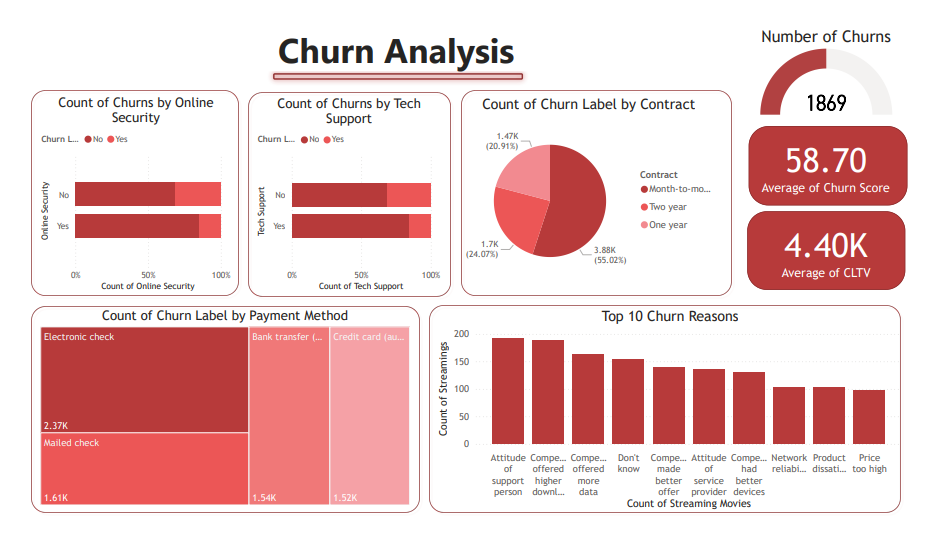

This screenshot's page, from the dashboard's own definition file:
{"tool":"powerbi","page":{"name":"Churn","canvas":[1280,720],"ordinal":3},"visuals":[{"type":"shape","box":[1035.5,274.9,223,111.5],"z":0},{"type":"shape","box":[1036.9,155.2,224.1,111.3],"z":1000},{"type":"shape","box":[359,73,367,25],"z":2000},{"type":"shape","box":[18.7,99.4,306.7,301],"z":2500},{"type":"textbox","box":[368.7,8.8,383,76.3],"z":3000},{"type":"shape","box":[18.7,401.8,561.6,303.8],"z":4000},{"type":"shape","box":[580.3,400.6,677.6,304.9],"z":5000},{"type":"shape","box":[625.6,98.9,394.4,301.1],"z":6000},{"type":"shape","box":[325.6,101.1,298.9,301.1],"z":7000},{"type":"gauge","title":"Number of Churns","fields":{"Y":["CountNonNull(Cleaned_Vis.Churn Label)"]},"box":[1031,14.6,231.4,128.9],"z":8000},{"type":"card","fields":{"Values":["Avg(Cleaned_Vis.Churn Score)"]},"box":[1050.1,155.2,191.9,111.3],"z":9000},{"type":"clusteredColumnChart","title":"Top 10 Churn Reasons","fields":{"Category":["Cleaned_Vis.Churn Reason"],"Y":["CountNonNull(Cleaned_Vis.Churn Reason)"]},"box":[595.1,411,662.8,288.7],"z":10000},{"type":"card","fields":{"Values":["Avg(Cleaned_Vis.CLTV)"]},"box":[1050.2,275,193,110.9],"z":11000},{"type":"treemap","fields":{"Group":["Cleaned_Vis.Payment Method"],"Values":["CountNonNull(Cleaned_Vis.Churn Label)"]},"box":[34.3,411.4,530,282.9],"z":12000},{"type":"pieChart","fields":{"Category":["Cleaned_Vis.Contract"],"Y":["CountNonNull(Cleaned_Vis.Churn Label)"]},"box":[625,112.3,374.4,273.6],"z":13000},{"type":"hundredPercentStackedBarChart","title":"Count of Churns by Online Security ","fields":{"Category":["Cleaned_Vis.Online Security"],"Series":["Cleaned_Vis.Churn Label"],"Y":["CountNonNull(Cleaned_Vis.Online Security)"]},"box":[35,110,276.7,281.7],"z":14000},{"type":"hundredPercentStackedBarChart","title":"Count of Churns by Tech Support ","fields":{"Category":["Cleaned_Vis.Tech Support"],"Series":["Cleaned_Vis.Churn Label"],"Y":["CountNonNull(Cleaned_Vis.Tech Support)"]},"box":[339.8,110.9,267.8,280.8],"z":15000}]}

Visuals, with their boxes on the page's 1280x720 design canvas (x1, y1, x2, y2). These are canvas units, not pixel positions in the 934x542 screenshot, which may show the page scaled, cropped or inside an application window:
shape: (1036, 275, 1258, 386)
shape: (1037, 155, 1261, 266)
shape: (359, 73, 726, 98)
shape: (19, 99, 325, 400)
textbox: (369, 9, 752, 85)
shape: (19, 402, 580, 706)
shape: (580, 401, 1258, 706)
shape: (626, 99, 1020, 400)
shape: (326, 101, 624, 402)
"Number of Churns" gauge: (1031, 15, 1262, 144)
card - Avg(Cleaned_Vis.Churn Score): (1050, 155, 1242, 266)
"Top 10 Churn Reasons" clusteredColumnChart: (595, 411, 1258, 700)
card - Avg(Cleaned_Vis.CLTV): (1050, 275, 1243, 386)
treemap - Cleaned_Vis.Payment Method x CountNonNull(Cleaned_Vis.Churn Label): (34, 411, 564, 694)
pieChart - Cleaned_Vis.Contract x CountNonNull(Cleaned_Vis.Churn Label): (625, 112, 999, 386)
"Count of Churns by Online Security " hundredPercentStackedBarChart: (35, 110, 312, 392)
"Count of Churns by Tech Support " hundredPercentStackedBarChart: (340, 111, 608, 392)
